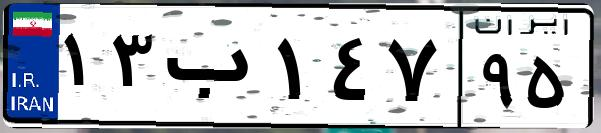1: (270, 28, 330, 110), (57, 26, 110, 100)
3: (110, 28, 158, 98)
4: (330, 28, 385, 110)
5: (525, 38, 570, 115)
7: (385, 28, 445, 110)
9: (475, 38, 525, 113)
ب: (158, 20, 270, 120)
